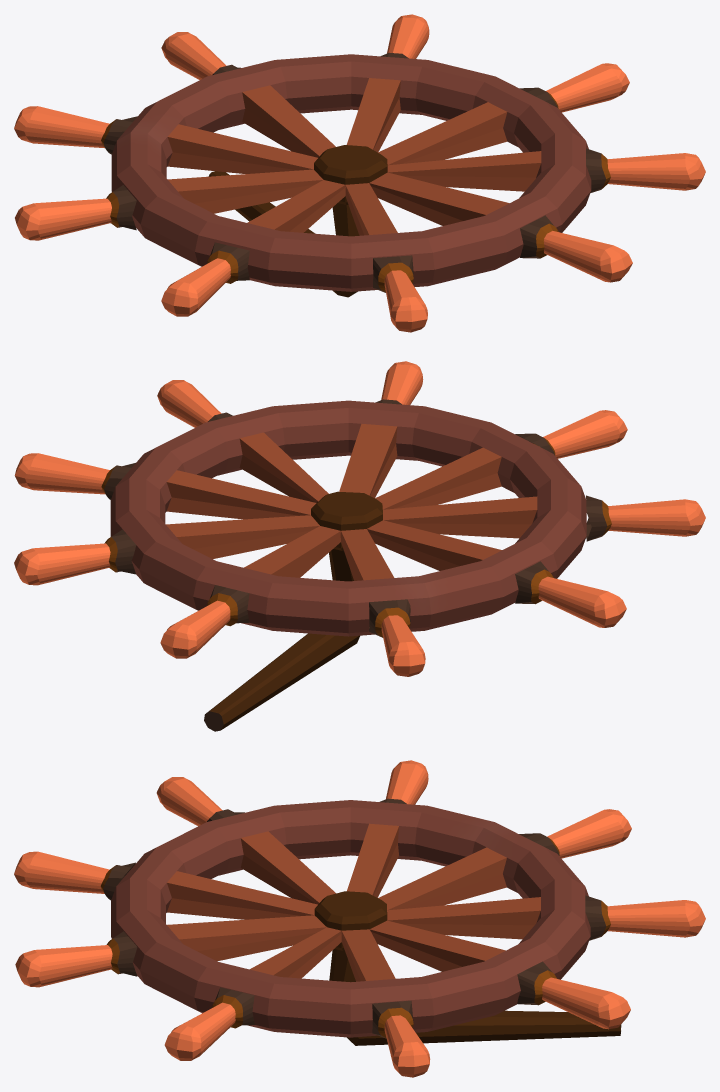
Rendered from VolBarco.fbx.
3 views of the same model, one above another, from view 1: azimuth 30°, elevation 25°; view 2: azimuth 150°, elevation 25°; view 3: azimuth 270°, elevation 25° (orthographic).
Visible parts, largest first — view 1: Barco, BarcoBASE; view 2: Barco, BarcoBASE; view 3: Barco, BarcoBASE.
Boxes of the visible parts, box(x1,y1,x2,y2) form: Barco: box(14, 14, 705, 332); BarcoBASE: box(208, 171, 359, 297); Barco: box(14, 361, 705, 676); BarcoBASE: box(204, 549, 359, 731); Barco: box(14, 760, 705, 1077); BarcoBASE: box(329, 949, 621, 1045).
Bounding box in the file's own units: 122 × 28.82 × 121.
